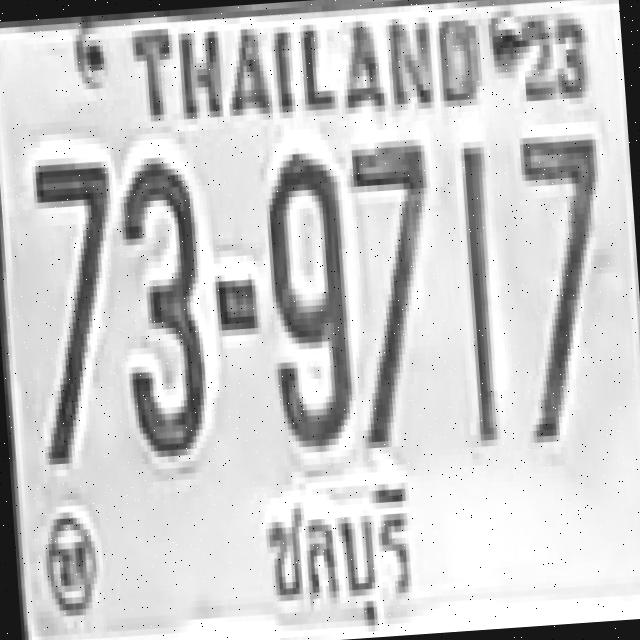1: (456, 141, 501, 440)
3: (110, 152, 206, 449)
7: (512, 126, 612, 436), (344, 132, 441, 442), (28, 155, 124, 458)
9: (258, 142, 352, 445)
Chonburi: (247, 470, 426, 640)
